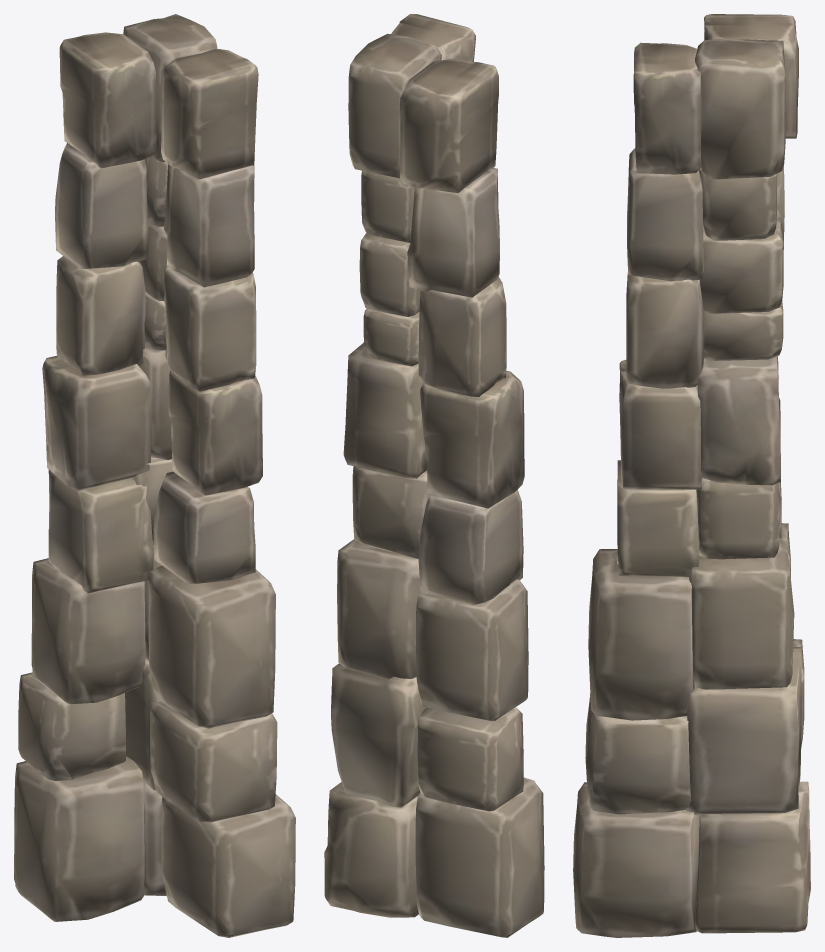
File: corner_exteriorwide_brick.glb
3 views of the same model, side by side, from view 1: azimuth 30°, elevation 25°; view 2: azimuth 150°, elevation 25°; view 3: azimuth 270°, elevation 25° (orthographic). The views are drawn at different scales.
Size of the model in its own units: 0.7123 by 3.04 by 0.7565.
Materials: 1 (1 with a texture image).
